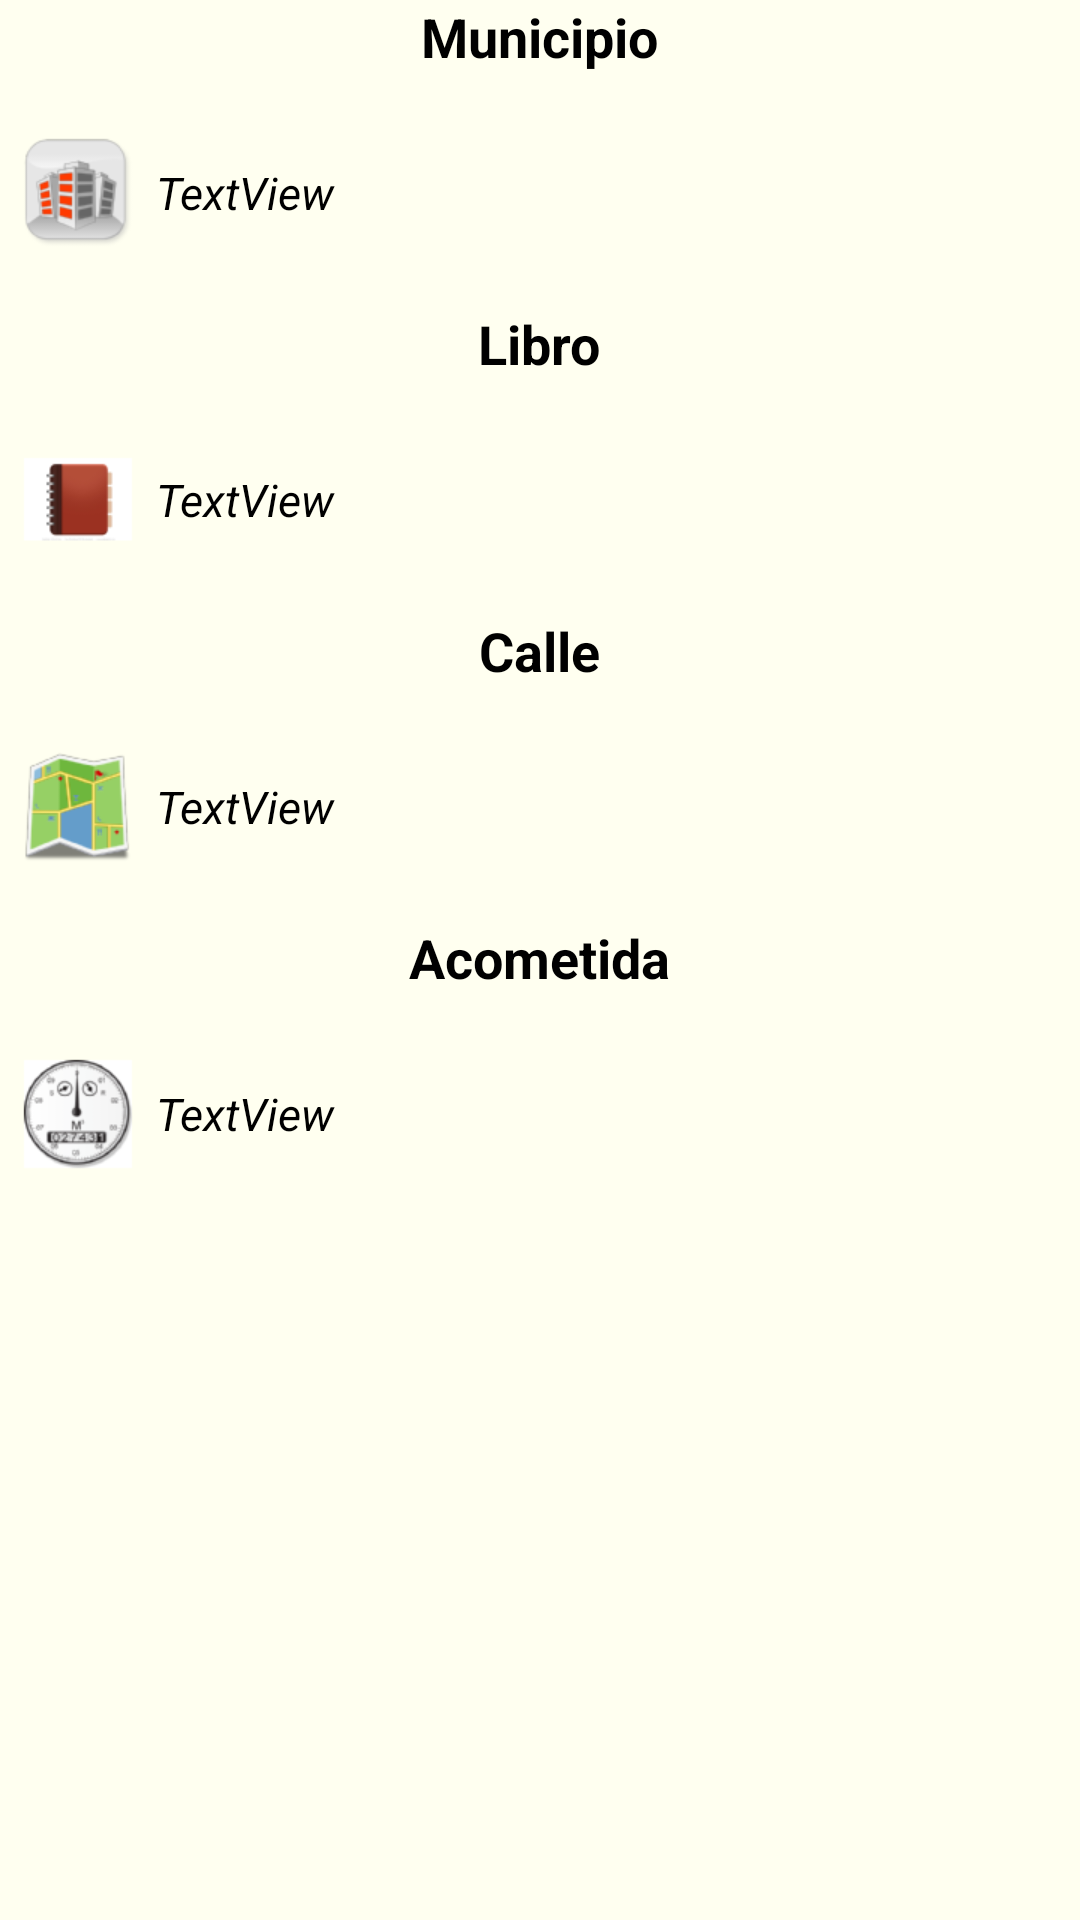

Icon click points for this 1080 × 1920 phone screenshot, format (x,y):
book: (79,499)
city: (76,190)
meter: (77,1113)
street: (77,806)
